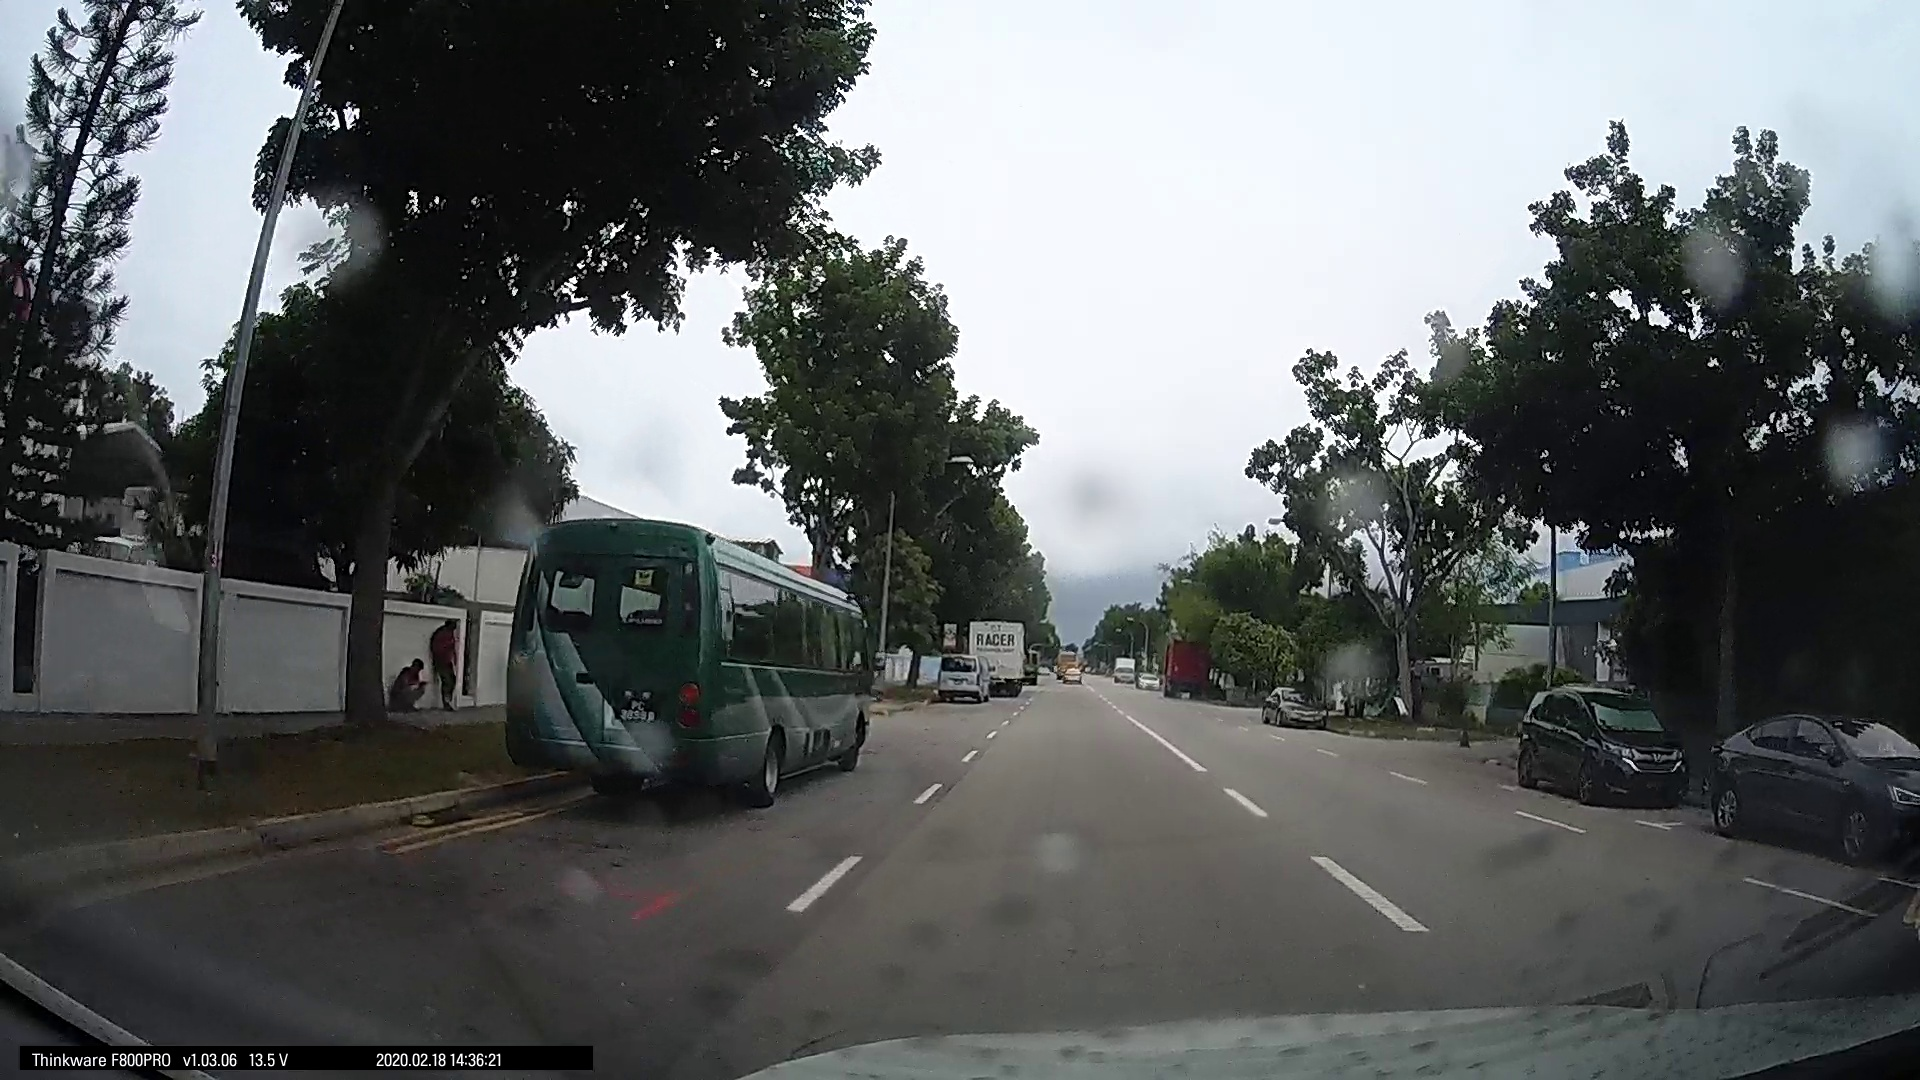Heavy Vehicle: (501, 520, 866, 814), (949, 616, 1030, 698)
Light Vehicle: (1697, 703, 1916, 861), (1503, 680, 1691, 810), (928, 650, 994, 703), (1261, 684, 1328, 731)
